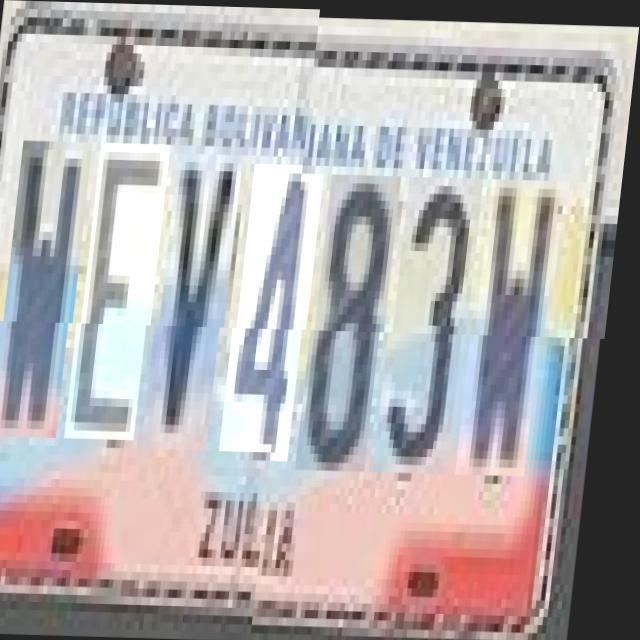3: (388, 174, 487, 472)
4: (233, 170, 327, 459)
8: (310, 172, 405, 470)
E: (78, 150, 173, 448)
V: (155, 152, 247, 458)
W: (0, 148, 95, 446), (470, 176, 565, 473)
